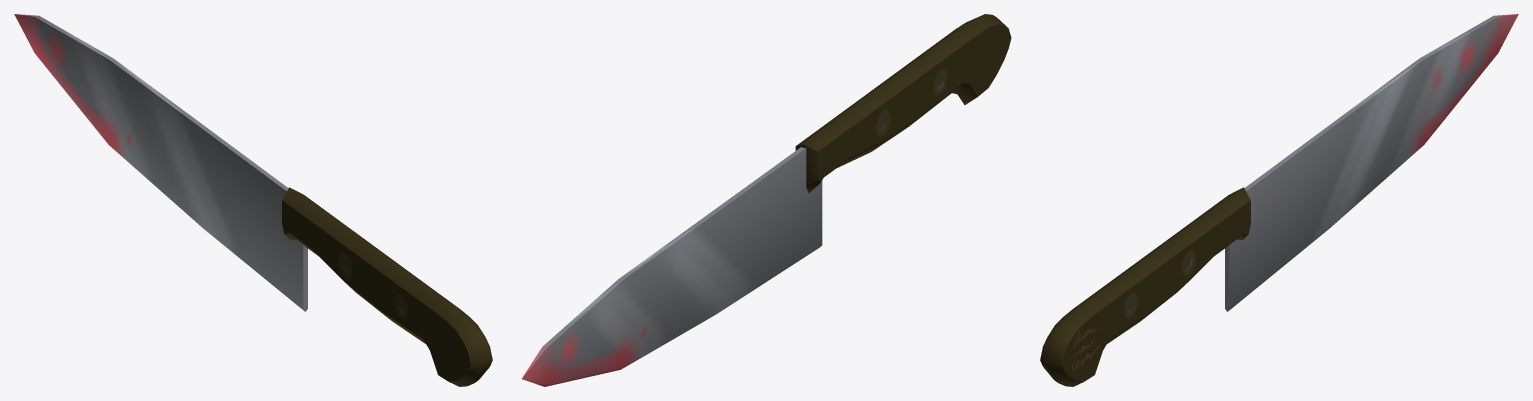
The model's file is Knife (1).fbx.
The picture shows the model from 3 angles, left to right: view 1: azimuth 30°, elevation 25°; view 2: azimuth 150°, elevation 25°; view 3: azimuth 330°, elevation 25°; orthographic projection. The views are drawn at different scales.
Visible parts, largest first — view 1: Kitchen Knife.001, Kitchen Knife; view 2: Kitchen Knife.001, Kitchen Knife; view 3: Kitchen Knife.001, Kitchen Knife.
Boxes of the visible parts, x1,y1,x2,y2 form: Kitchen Knife.001: [14, 14, 307, 311]; Kitchen Knife: [282, 187, 492, 386]; Kitchen Knife.001: [522, 147, 822, 386]; Kitchen Knife: [795, 14, 1011, 193]; Kitchen Knife.001: [1225, 14, 1518, 311]; Kitchen Knife: [1040, 187, 1250, 386].
Bounding box in the file's own units: 1.31 × 6.45 × 48.65.
2 materials, 2 textured.
